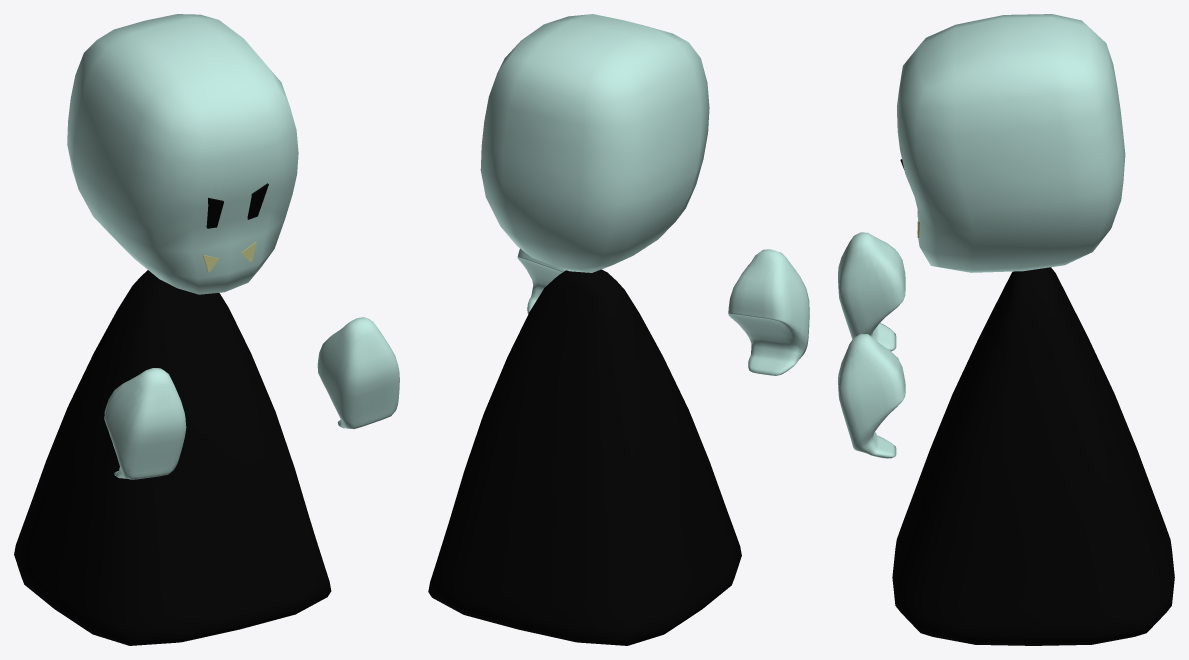
Rendered from vampire.fbx.
3 renders of one model, left to right at view 1: azimuth 30°, elevation 25°; view 2: azimuth 150°, elevation 25°; view 3: azimuth 270°, elevation 25°, orthographic.
Visible parts, largest first — view 1: Cube.001, Cube.002, Plane.001; view 2: Cube.001, Cube.002; view 3: Cube.001, Cube.002.
Boxes of the visible parts, left/top/right/bottom form: Cube.001: left=14, top=270, right=331, bottom=645; Cube.002: left=67, top=14, right=399, bottom=479; Plane.001: left=206, top=183, right=268, bottom=228; Cube.001: left=428, top=269, right=741, bottom=645; Cube.002: left=480, top=14, right=809, bottom=375; Cube.001: left=892, top=267, right=1174, bottom=645; Cube.002: left=838, top=14, right=1125, bottom=458.
Size of the model in its own units: 370 by 718 by 386.
